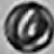correct: (5, 2, 54, 52)
